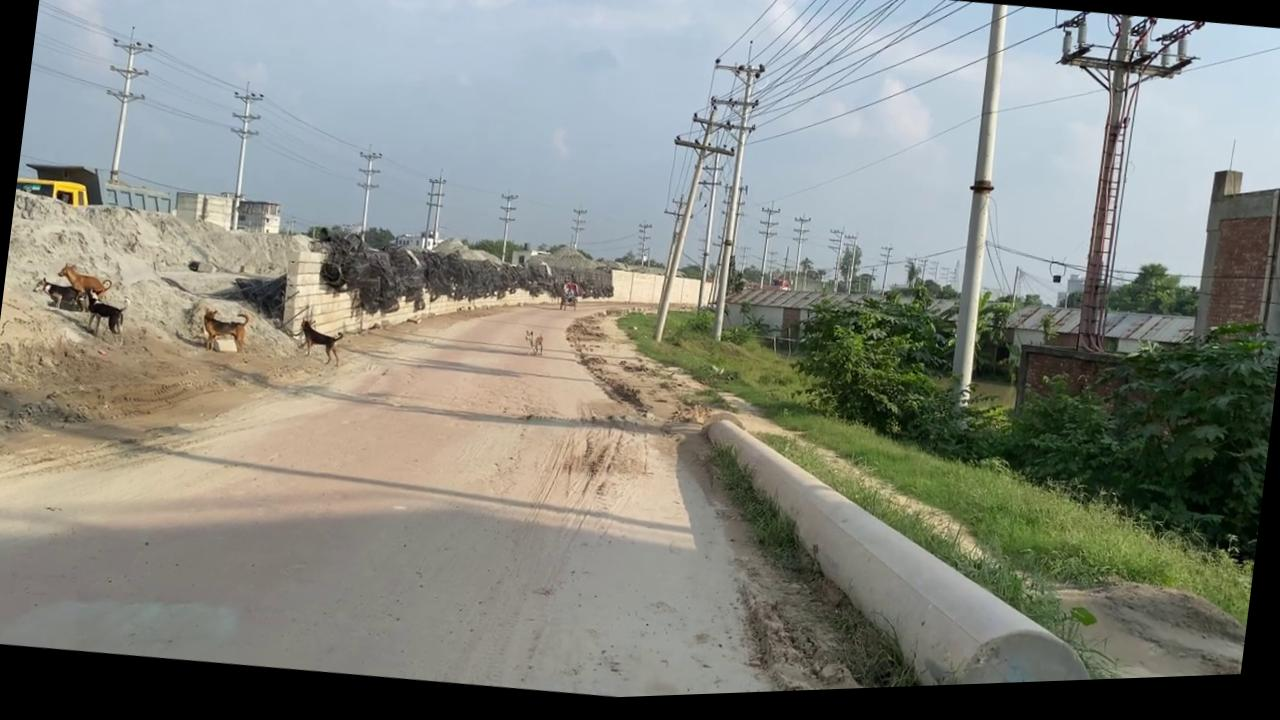Dog: (53, 260, 113, 315), (295, 317, 345, 369), (79, 289, 130, 339), (198, 307, 249, 356), (32, 275, 86, 313), (522, 332, 544, 361), (558, 299, 566, 314)
Pole: (667, 405, 1124, 701), (942, 11, 1018, 418)
Tree: (17, 155, 175, 220), (15, 174, 91, 209)
